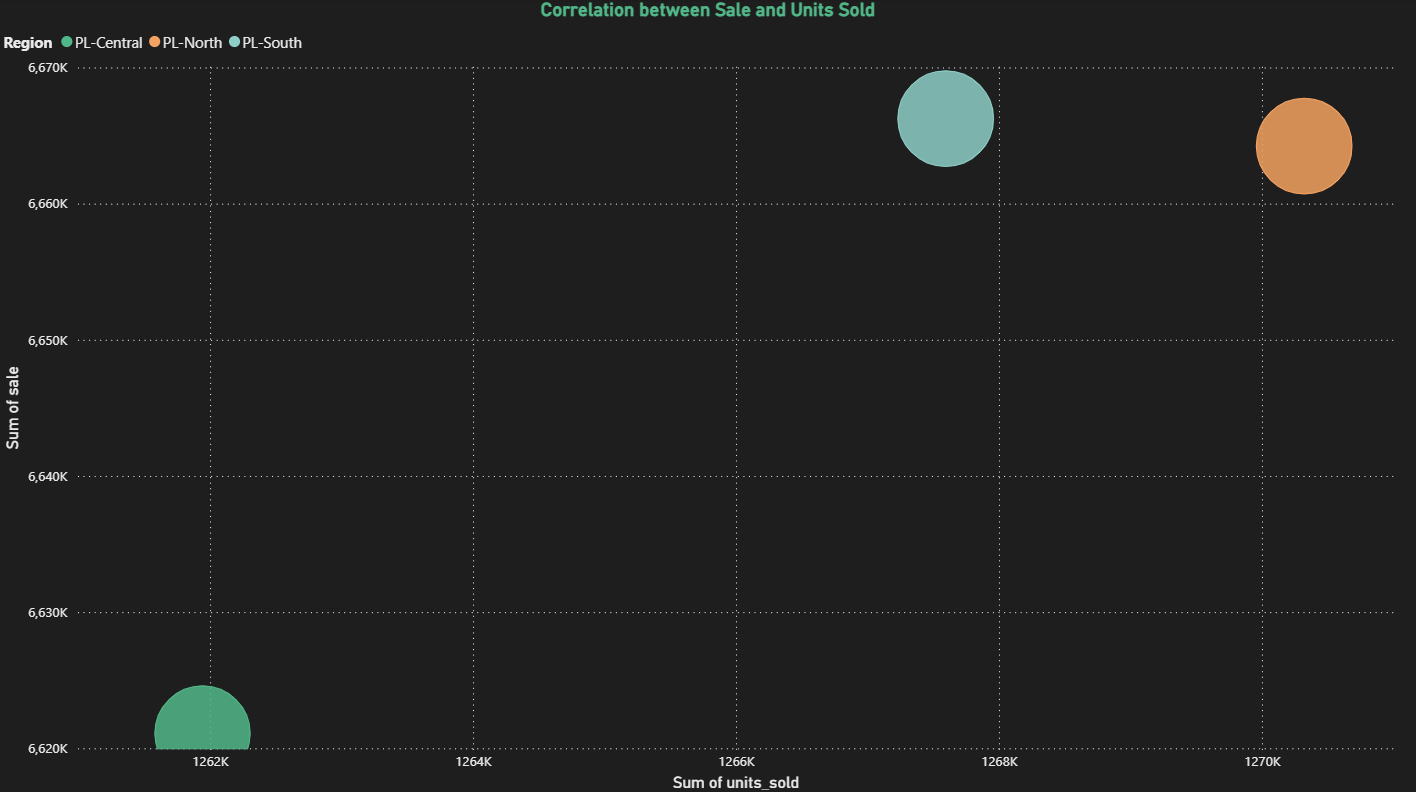

What the dashboard file says about the page in this screenshot:
{"tool":"powerbi","page":{"name":"Page 5","canvas":[1280,720],"ordinal":1},"visuals":[{"type":"scatterChart","title":"Correlation between Sale and Units Sold","fields":{"X":["Sum(FMCG_2022_2024.units_sold)"],"Series":["FMCG_2022_2024.region"],"Y":["Sum(FMCG_2022_2024.sale)"],"Size":["Sum(FMCG_2022_2024.sale)"]},"box":[0,0,1280.4,720.2],"z":0}]}

Visuals, with their boxes in screenshot pixels (x1, y1, x2, y2), scaled from the page's 1280x720 canvas onto the 1416x792 screenshot:
"Correlation between Sale and Units Sold" scatterChart: bbox=[0, 0, 1415, 791]
